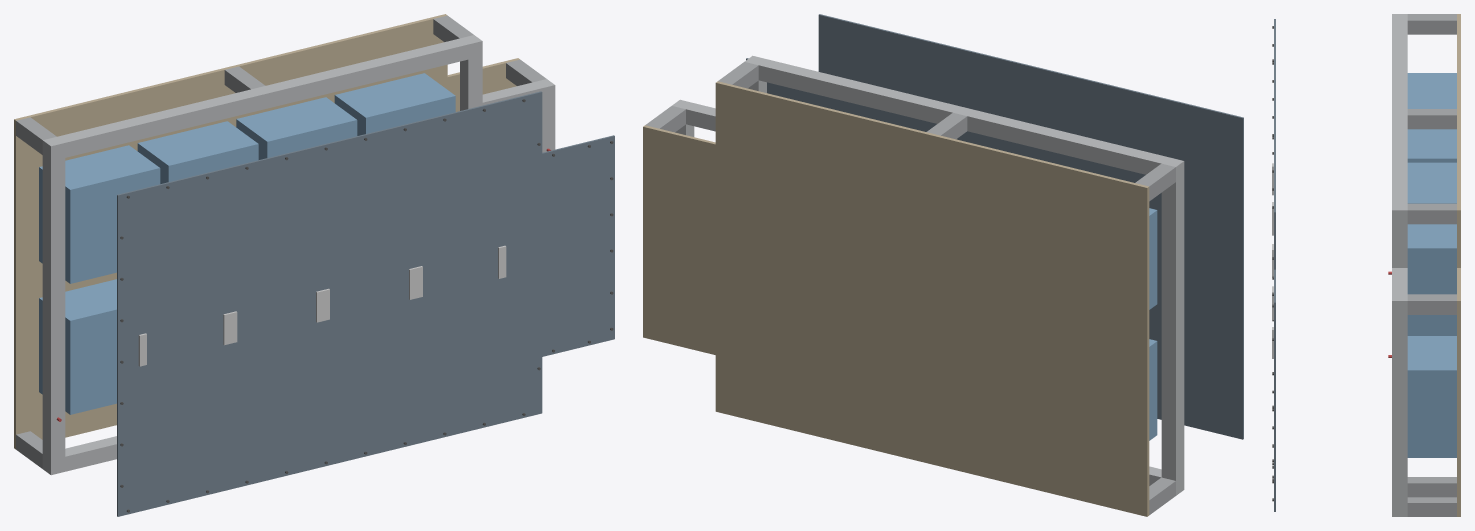
The model's file is battery_replacement_exploded.glb.
3 views of the same model, side by side, from view 1: azimuth 30°, elevation 25°; view 2: azimuth 150°, elevation 25°; view 3: azimuth 270°, elevation 25° (orthographic). The views are drawn at different scales.
Visible parts, largest first — view 1: lid_main, base_plate_0, lid_step, profile_long_plus, module_2, profile_left, module_1, module_6, module_8, module_4, profile_long_minus, base_plate_1 (+8 smaller); view 2: base_plate_0, lid_main, base_plate_1, profile_long_plus, profile_left, module_1, module_2, post_1, post_0, post_3, post_5, post_7 (+1 smaller); view 3: module_7, module_8, profile_long_plus, profile_right, module_6, module_2, module_4, post_5, base_plate_0, post_1, post_7, post_3 (+7 smaller).
Part boxes in pixels (left/top/right/bottom): lid_main: left=117, top=91, right=542, bottom=516; base_plate_0: left=14, top=14, right=447, bottom=449; lid_step: left=542, top=135, right=614, bottom=356; profile_long_plus: left=42, top=35, right=482, bottom=161; module_2: left=39, top=145, right=160, bottom=283; profile_left: left=42, top=155, right=65, bottom=459; module_1: left=39, top=279, right=116, bottom=414; module_6: left=236, top=97, right=357, bottom=159; module_8: left=334, top=73, right=455, bottom=135; module_4: left=137, top=121, right=258, bottom=183; profile_long_minus: left=42, top=436, right=116, bottom=475; base_plate_1: left=447, top=58, right=519, bottom=111; base_plate_0: left=715, top=81, right=1149, bottom=516; lid_main: left=818, top=14, right=1243, bottom=439; base_plate_1: left=643, top=125, right=715, bottom=354; profile_long_plus: left=744, top=55, right=1184, bottom=181; profile_left: left=1161, top=176, right=1184, bottom=480; module_1: left=1149, top=339, right=1157, bottom=440; module_2: left=1149, top=208, right=1157, bottom=309; post_1: left=1135, top=163, right=1175, bottom=201; post_0: left=1149, top=477, right=1175, bottom=514; post_3: left=926, top=112, right=967, bottom=139; post_5: left=718, top=62, right=758, bottom=88; post_7: left=645, top=106, right=685, bottom=132; module_7: left=1407, top=336, right=1456, bottom=457; module_8: left=1407, top=224, right=1456, bottom=335; profile_long_plus: left=1392, top=14, right=1407, bottom=224; profile_right: left=1392, top=294, right=1407, bottom=497; module_6: left=1407, top=162, right=1456, bottom=203; module_2: left=1407, top=73, right=1456, bottom=108; module_4: left=1407, top=129, right=1456, bottom=162; post_5: left=1407, top=203, right=1456, bottom=224; base_plate_0: left=1457, top=14, right=1460, bottom=516; post_1: left=1407, top=14, right=1456, bottom=34; post_7: left=1407, top=294, right=1456, bottom=314; post_3: left=1407, top=109, right=1456, bottom=129.
Bounding box in the file's own units: 1402 × 874 × 488.
